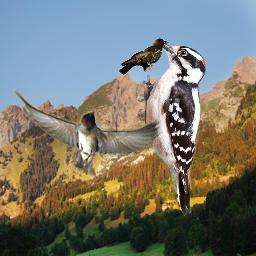Crow: (119, 37, 170, 76)
Swallow: (12, 88, 163, 178)
Woodpecker: (137, 40, 208, 218)
